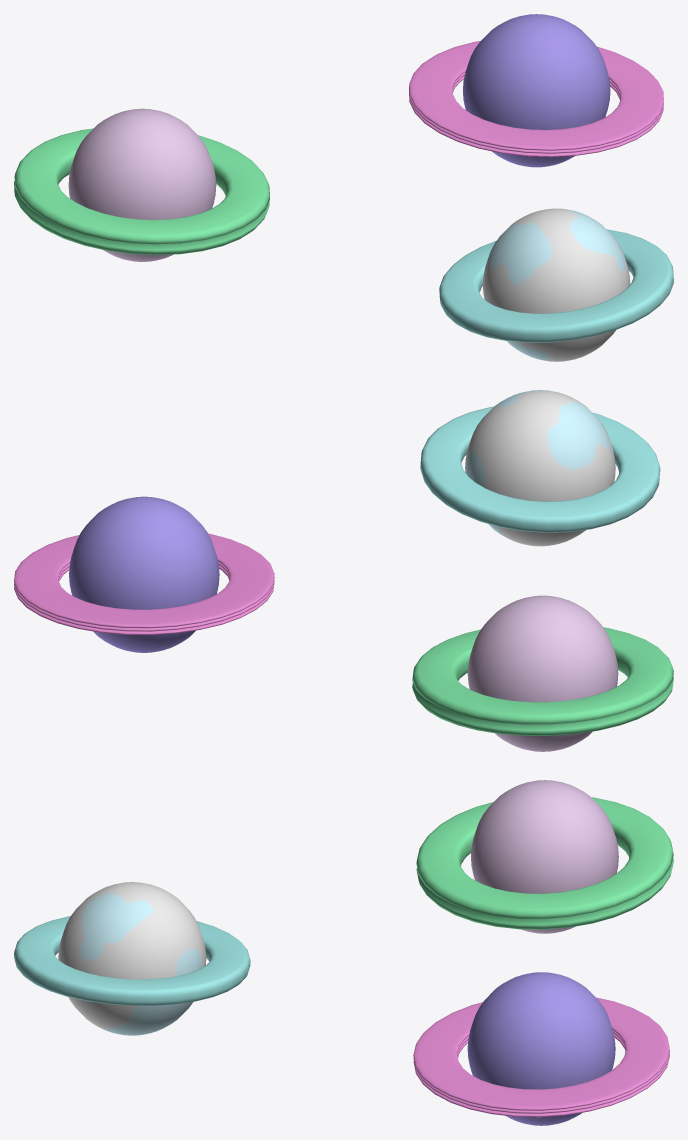
The model's file is planetsCompressed.gltf.
3 renders of one model, top to bottom at view 1: azimuth 30°, elevation 25°; view 2: azimuth 150°, elevation 25°; view 3: azimuth 270°, elevation 25°, orthographic.
Parts seen in each view (by area): view 1: PlanetThree, PlanetTwoRings, PlanetOne, PlanetTwo, PlanetThreeRings, PlanetOneRings; view 2: PlanetThree, PlanetOne, PlanetTwo, PlanetTwoRings, PlanetOneRings, PlanetThreeRings; view 3: PlanetTwoRings, PlanetThree, PlanetOne, PlanetTwo, PlanetThreeRings, PlanetOneRings.
Boxes of the visible parts, x1,y1,x2,y2 form: PlanetThree: (463, 14, 610, 167); PlanetTwoRings: (14, 128, 269, 255); PlanetOne: (482, 208, 630, 361); PlanetTwo: (68, 108, 216, 261); PlanetThreeRings: (409, 41, 663, 157); PlanetOneRings: (439, 229, 673, 342); PlanetThree: (69, 496, 219, 652); PlanetOne: (465, 390, 615, 546); PlanetTwo: (467, 595, 618, 751); PlanetTwoRings: (412, 627, 673, 735); PlanetOneRings: (420, 406, 660, 532); PlanetThreeRings: (14, 533, 274, 634); PlanetTwoRings: (416, 797, 673, 929); PlanetThree: (467, 972, 615, 1125); PlanetOne: (58, 882, 206, 1035); PlanetTwo: (471, 780, 618, 933); PlanetThreeRings: (413, 997, 669, 1117); PlanetOneRings: (14, 916, 250, 1005).
Bounding box in the file's own units: 9.08 × 1.98 × 8.42.
Materials: 6 (1 with a texture image).
